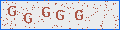G: (75, 10, 83, 20), (56, 10, 64, 20), (42, 7, 50, 17), (24, 13, 32, 23), (8, 6, 16, 16)
